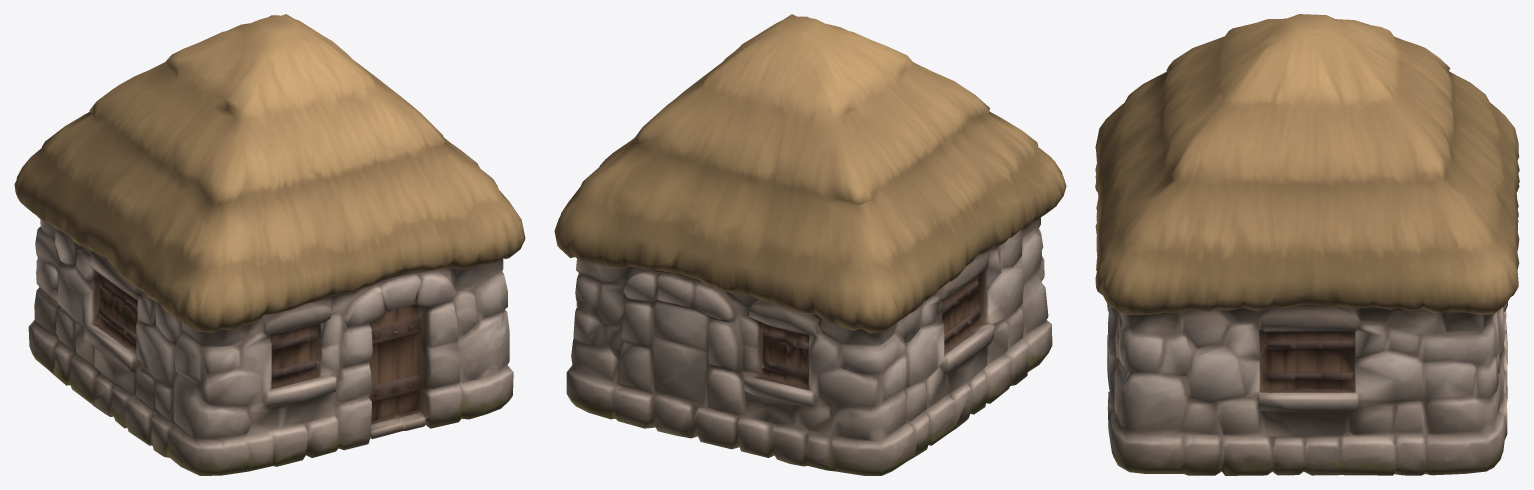
The model's file is cottage_b.glb.
The picture shows the model from 3 angles, left to right: view 1: azimuth 30°, elevation 25°; view 2: azimuth 150°, elevation 25°; view 3: azimuth 270°, elevation 25°; orthographic projection. The views are drawn at different scales.
Visible parts, largest first — view 1: geometry_0.001; view 2: geometry_0.001; view 3: geometry_0.001.
Part boxes in pixels (x1,y1,x2,y2): geometry_0.001: (14,14,525,475); geometry_0.001: (554,14,1066,475); geometry_0.001: (1095,14,1519,475).
Size of the model in its own units: 1.99 by 1.94 by 1.98.
Materials: 1 (1 with a texture image).
